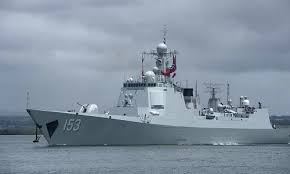tau_muctieu: (22, 51, 290, 148)
